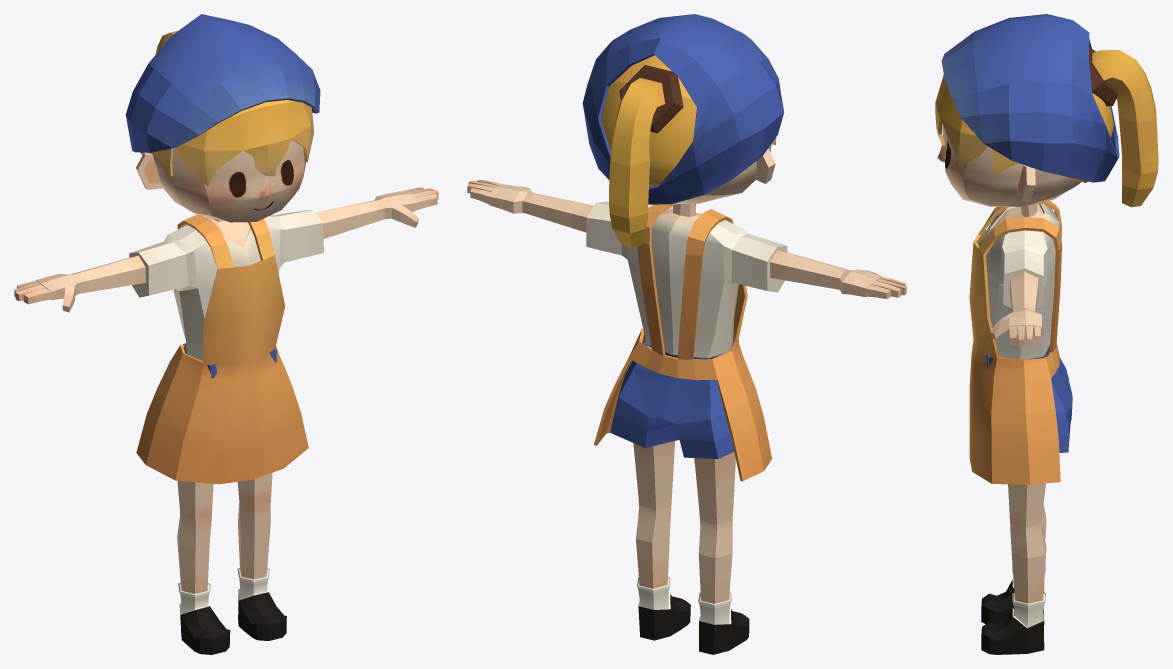
The model's file is BakerTexture.obj.
The picture shows the model from 3 angles, left to right: view 1: azimuth 30°, elevation 25°; view 2: azimuth 150°, elevation 25°; view 3: azimuth 270°, elevation 25°; orthographic projection. The views are drawn at different scales.
Visible parts, largest first — view 1: Body group4_pasted__Body, Apron Body, Head_uv HairScarf, Head_uv pasted__Head, Head_uv Head, ears Head_uv; view 2: Body group4_pasted__Body, Head_uv HairScarf, Apron Body, Head_uv Pony, Head_uv pasted__Head, Head_uv Elas, Head_uv Head; view 3: Head_uv HairScarf, Body group4_pasted__Body, Apron Body, Head_uv Pony, Head_uv Head, Head_uv pasted__Head, Head_uv Elas, ears Head_uv.
Part boxes in pixels (x1,y1,x2,y2): Body group4_pasted__Body: (14, 187, 438, 654); Apron Body: (136, 214, 308, 484); Head_uv HairScarf: (125, 14, 320, 152); Head_uv pasted__Head: (141, 100, 314, 186); Head_uv Head: (147, 139, 305, 222); ears Head_uv: (136, 152, 164, 189); Body group4_pasted__Body: (467, 180, 906, 654); Head_uv HairScarf: (582, 14, 784, 204); Apron Body: (594, 204, 771, 481); Head_uv Pony: (609, 78, 665, 247); Head_uv pasted__Head: (601, 55, 776, 186); Head_uv Elas: (619, 65, 683, 133); Head_uv Head: (672, 144, 771, 204); Head_uv HairScarf: (941, 14, 1119, 182); Body group4_pasted__Body: (978, 204, 1072, 654); Apron Body: (969, 200, 1061, 484); Head_uv Pony: (1092, 50, 1158, 207); Head_uv Head: (937, 123, 1081, 206); Head_uv pasted__Head: (935, 74, 1113, 182); Head_uv Elas: (1089, 46, 1118, 106); ears Head_uv: (1016, 165, 1035, 201).
Size of the model in its own units: 15.43 by 21.1 by 6.94.
